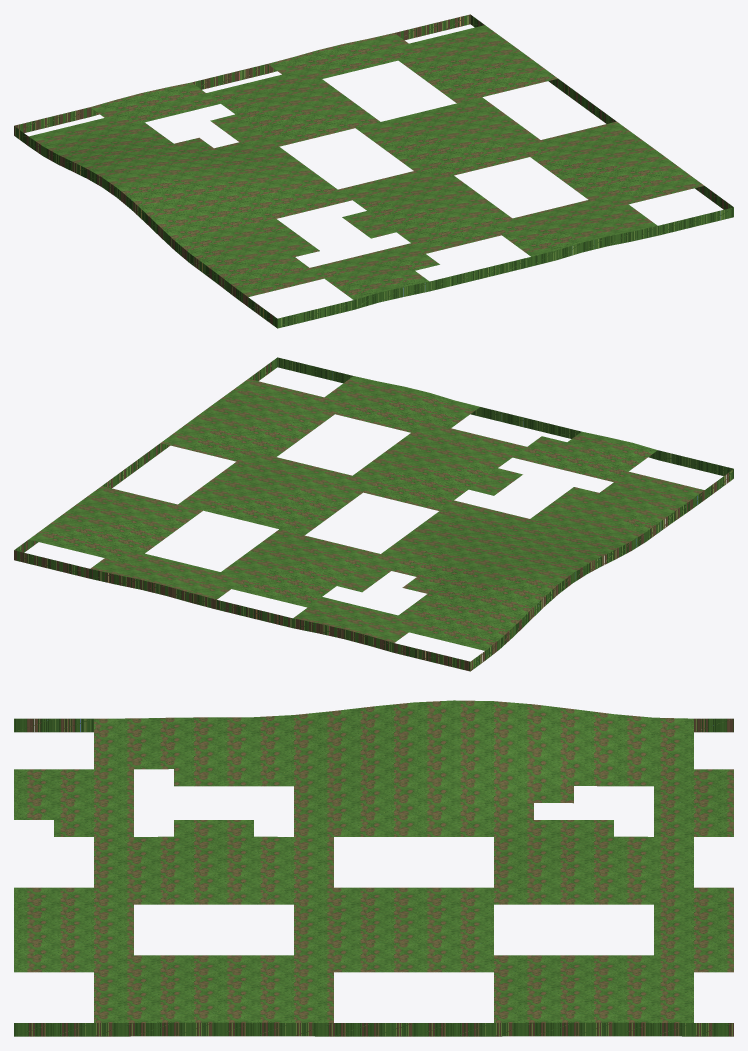
The model's file is rv_terrain_30.gltf.
3 renders of one model, top to bottom at view 1: azimuth 30°, elevation 25°; view 2: azimuth 150°, elevation 25°; view 3: azimuth 270°, elevation 25°, orthographic. The views are drawn at different scales.
Visible parts, largest first — view 1: RV_Terrain_30; view 2: RV_Terrain_30; view 3: RV_Terrain_30.
Boxes of the visible parts, x1,y1,x2,y2 form: RV_Terrain_30: (14, 14, 733, 328); RV_Terrain_30: (14, 357, 733, 671); RV_Terrain_30: (14, 700, 733, 1036).
Size of the model in its own units: 72 by 3.51 by 72.
2 materials, 1 textured.
